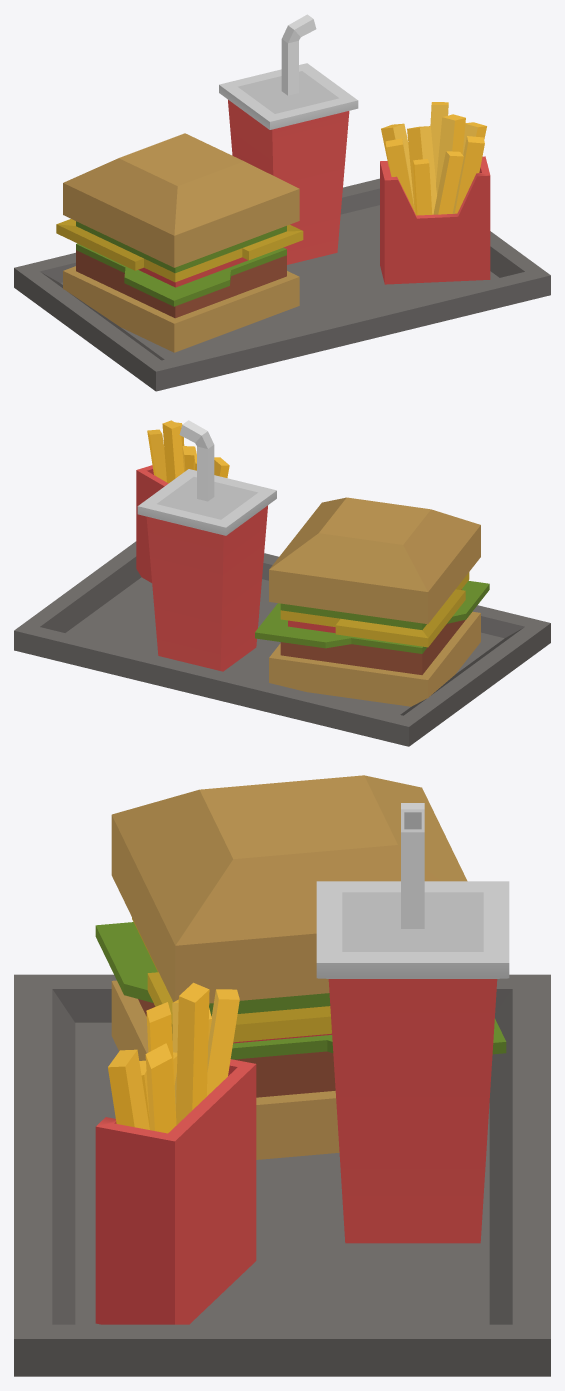
Rendered from FastFoodTray.glb.
3 renders of one model, top to bottom at view 1: azimuth 30°, elevation 25°; view 2: azimuth 150°, elevation 25°; view 3: azimuth 270°, elevation 25°, orthographic. The views are drawn at different scales.
Visible parts, largest first — view 1: SI_Prop_FastfoodTray_01; view 2: SI_Prop_FastfoodTray_01; view 3: SI_Prop_FastfoodTray_01.
Boxes of the visible parts, x1,y1,x2,y2 form: SI_Prop_FastfoodTray_01: (14,14,550,391); SI_Prop_FastfoodTray_01: (14,420,550,746); SI_Prop_FastfoodTray_01: (14,775,550,1376).
Bounding box in the file's own units: 0.012 × 0.00681 × 0.00749.
1 material, 1 textured.
